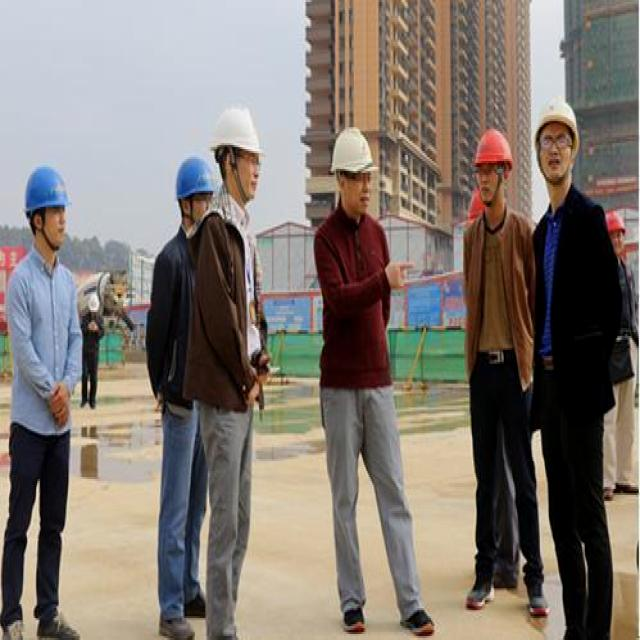face_nomask: (537, 127, 576, 191), (340, 167, 380, 213), (231, 145, 264, 199), (469, 167, 506, 211), (44, 201, 70, 246)
hand_noglove: (49, 374, 72, 431), (386, 260, 414, 298)
head_helmet: (210, 105, 267, 157), (534, 93, 580, 153), (23, 163, 72, 213), (331, 125, 378, 175), (172, 157, 218, 201), (472, 125, 517, 163), (470, 188, 488, 218), (603, 212, 627, 232), (87, 294, 100, 310)
person: (316, 106, 411, 633), (524, 89, 615, 629), (450, 136, 525, 627), (196, 99, 264, 634), (6, 159, 82, 636), (149, 161, 215, 626), (599, 211, 636, 489), (80, 288, 102, 408)
shoes: (459, 556, 498, 613), (157, 598, 200, 640), (30, 606, 82, 640), (395, 600, 437, 640), (519, 572, 552, 621), (331, 595, 369, 637)
